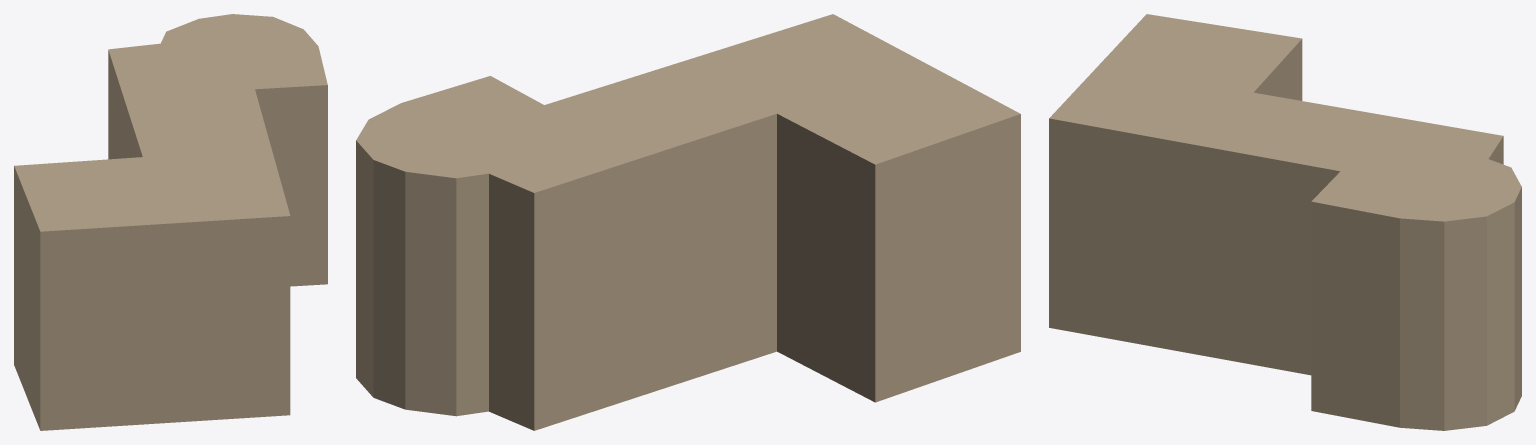
The model's file is bld_99020355.dae.
3 renders of one model, left to right at view 1: azimuth 30°, elevation 25°; view 2: azimuth 150°, elevation 25°; view 3: azimuth 270°, elevation 25°, orthographic. The views are drawn at different scales.
Visible parts, largest first — view 1: bld_99020355; view 2: bld_99020355; view 3: bld_99020355.
Boxes of the visible parts, x1,y1,x2,y2 form: bld_99020355: (14,14,327,430); bld_99020355: (356,14,1020,430); bld_99020355: (1049,14,1521,430).
Bounding box in the file's own units: 17.01 × 16.37 × 8.
